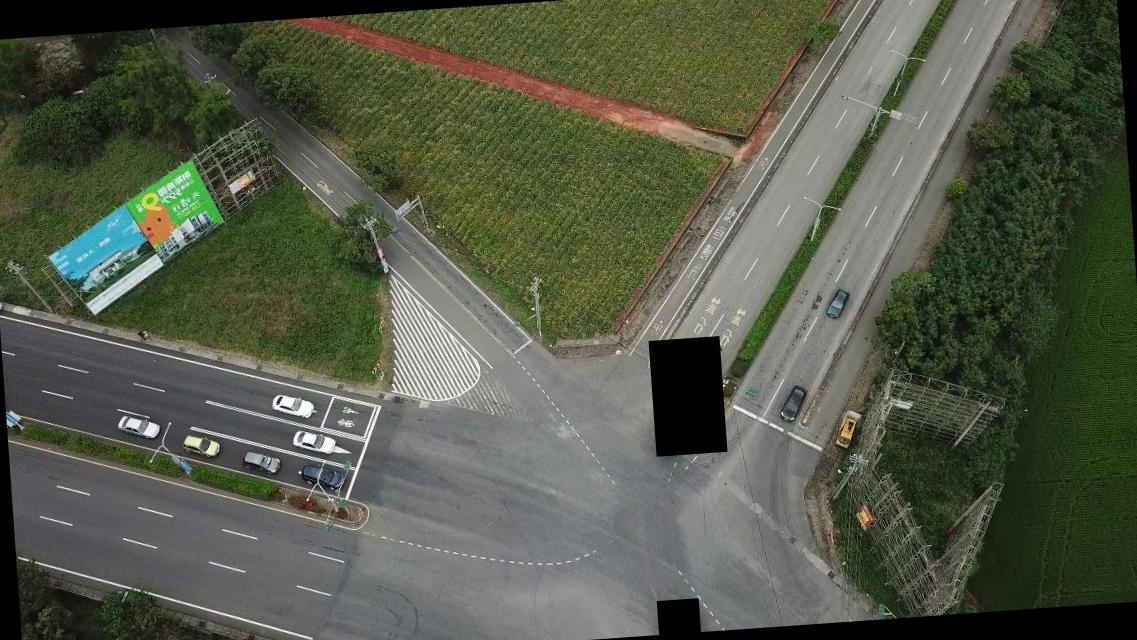vehicle: (300, 462, 344, 492), (116, 412, 160, 442), (239, 448, 282, 478), (292, 428, 338, 456), (179, 432, 222, 460), (778, 382, 808, 422), (110, 590, 156, 616), (272, 391, 314, 419), (822, 286, 850, 318), (833, 415, 858, 449)
